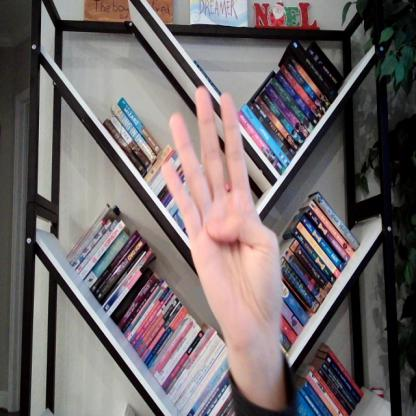four: (156, 79, 284, 341)
